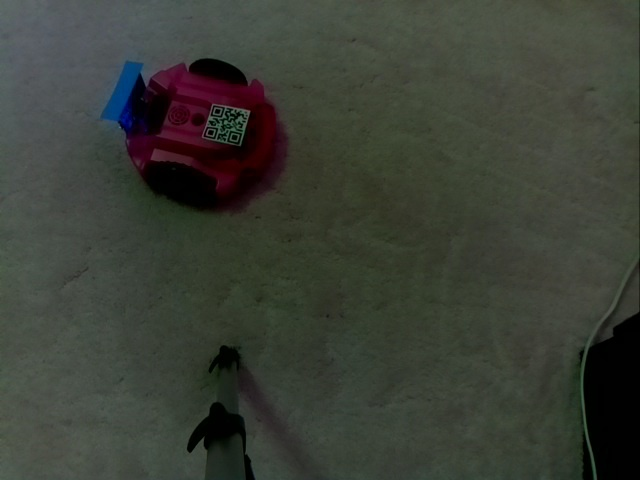board: (98, 59, 156, 134)
chassis: (108, 55, 278, 205)
